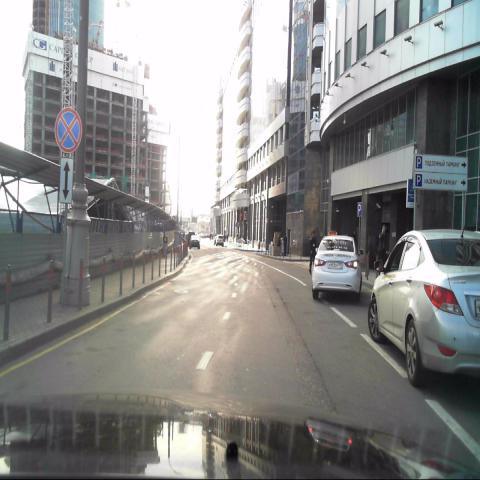8_2_4: (58, 154, 72, 205)
